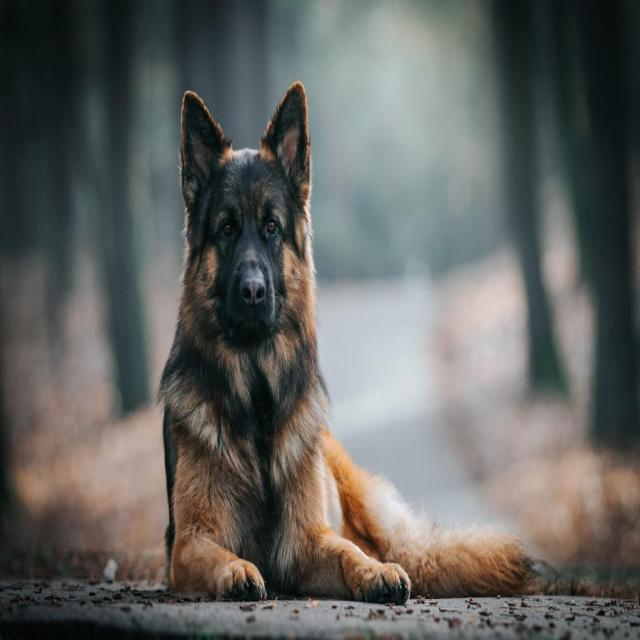GERMAN_SHEPHERD: (142, 68, 561, 612)
